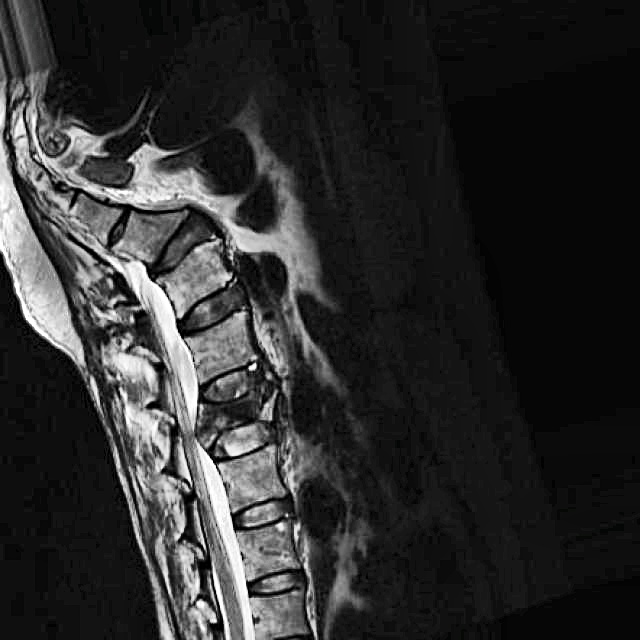Comminuted: (186, 358, 294, 477)
